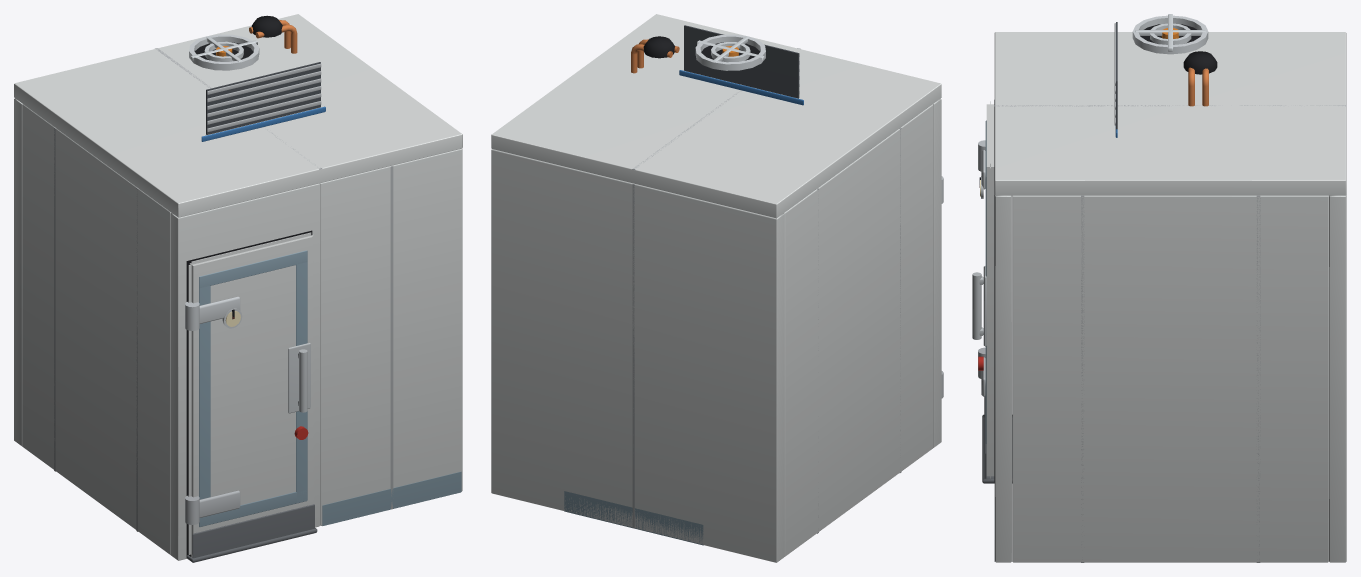
File: SM_WalkIn_Box_2x2.glb
3 views of the same model, side by side, from view 1: azimuth 30°, elevation 25°; view 2: azimuth 150°, elevation 25°; view 3: azimuth 270°, elevation 25° (orthographic). The views are drawn at different scales.
Parts seen in each view (by area): view 1: SM_WalkIn_Box_2x2; view 2: SM_WalkIn_Box_2x2; view 3: SM_WalkIn_Box_2x2.
Boxes of the visible parts, x1,y1,x2,y2 form: SM_WalkIn_Box_2x2: (14, 14, 462, 562); SM_WalkIn_Box_2x2: (491, 14, 943, 562); SM_WalkIn_Box_2x2: (972, 14, 1346, 562).
Size of the model in its own units: 2 by 2.86 by 2.13.
Materials: 1 (1 with a texture image).
